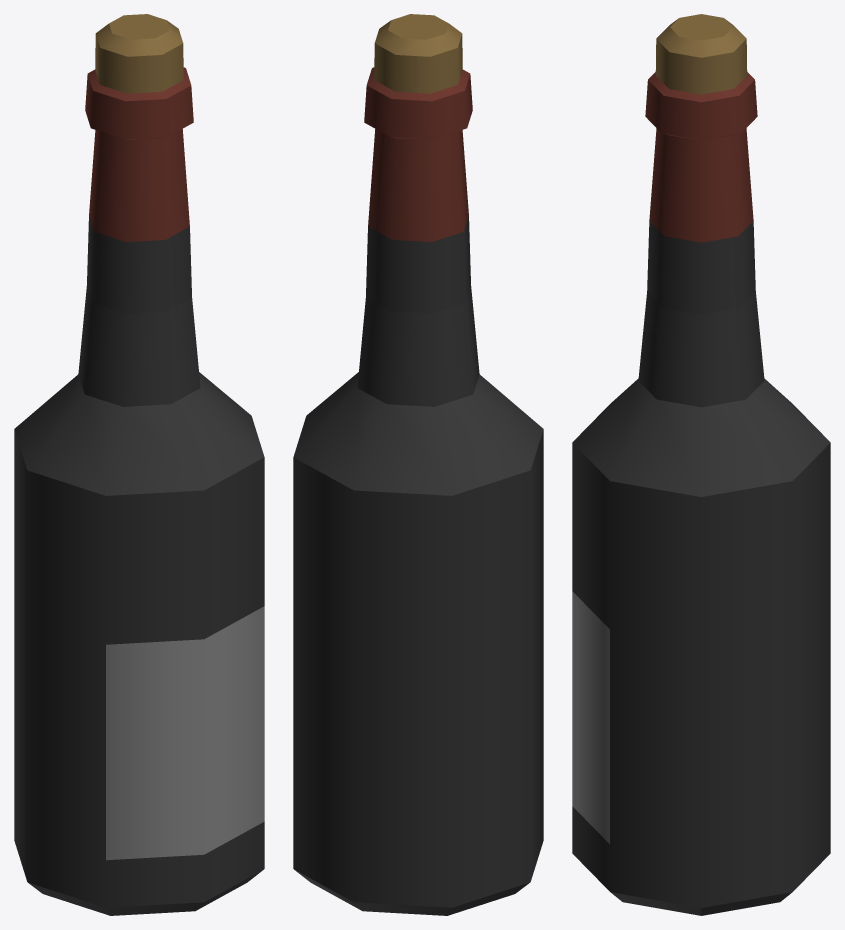
File: bottle.fbx
The picture shows the model from 3 angles, left to right: view 1: azimuth 30°, elevation 25°; view 2: azimuth 150°, elevation 25°; view 3: azimuth 270°, elevation 25°; orthographic projection.
Parts seen in each view (by area): view 1: bottle; view 2: bottle; view 3: bottle.
Boxes of the visible parts, x1,y1,x2,y2 form: bottle: (14, 14, 264, 915); bottle: (293, 14, 543, 915); bottle: (572, 14, 830, 915).
Size of the model in its own units: 45.17 by 162 by 45.17.
